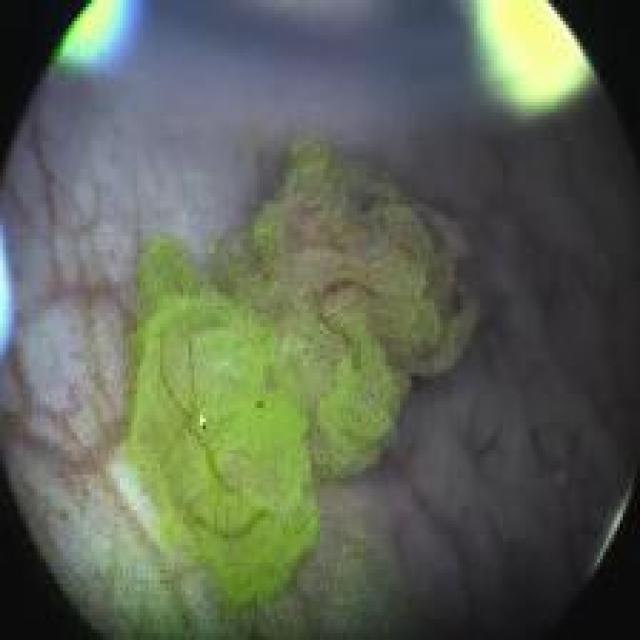color misalignment: (98, 0, 536, 148), (479, 4, 601, 113), (59, 1, 124, 66), (588, 479, 630, 573), (2, 239, 15, 375), (195, 413, 214, 431), (251, 393, 265, 412)
